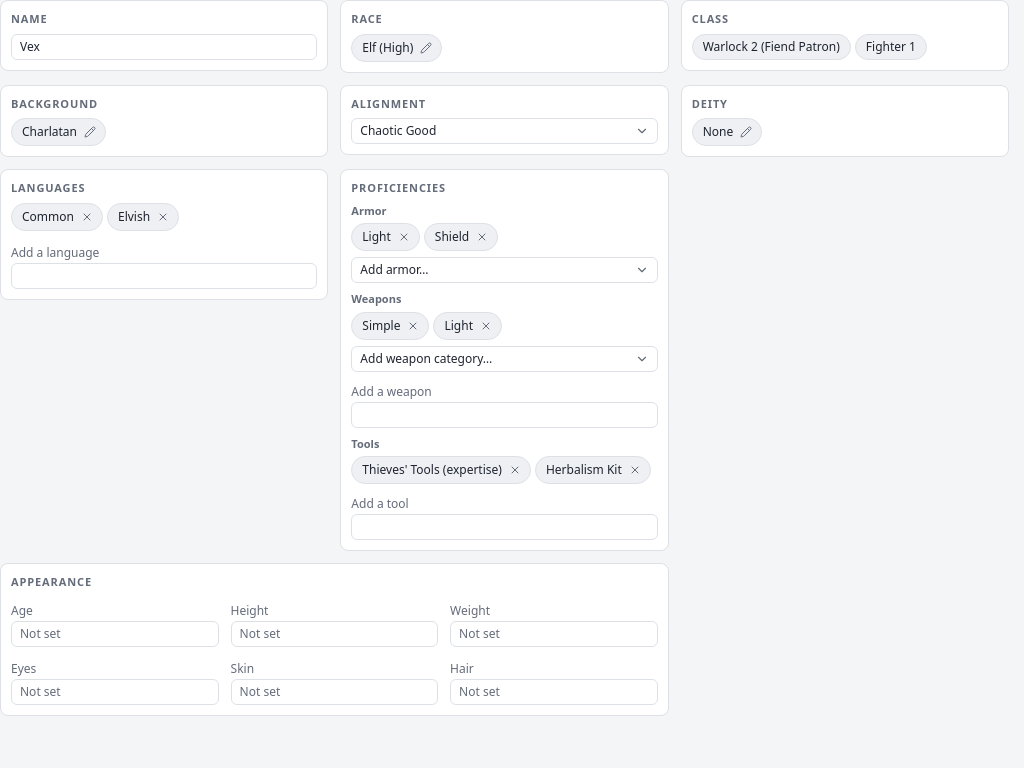
Test case: IdentitySection › refuses an empty name on the field and keeps it unsaved
This screenshot has width=1024, height=768.
Clear the field named "Name" at x=164, y=46, box [11, 34, 317, 60]
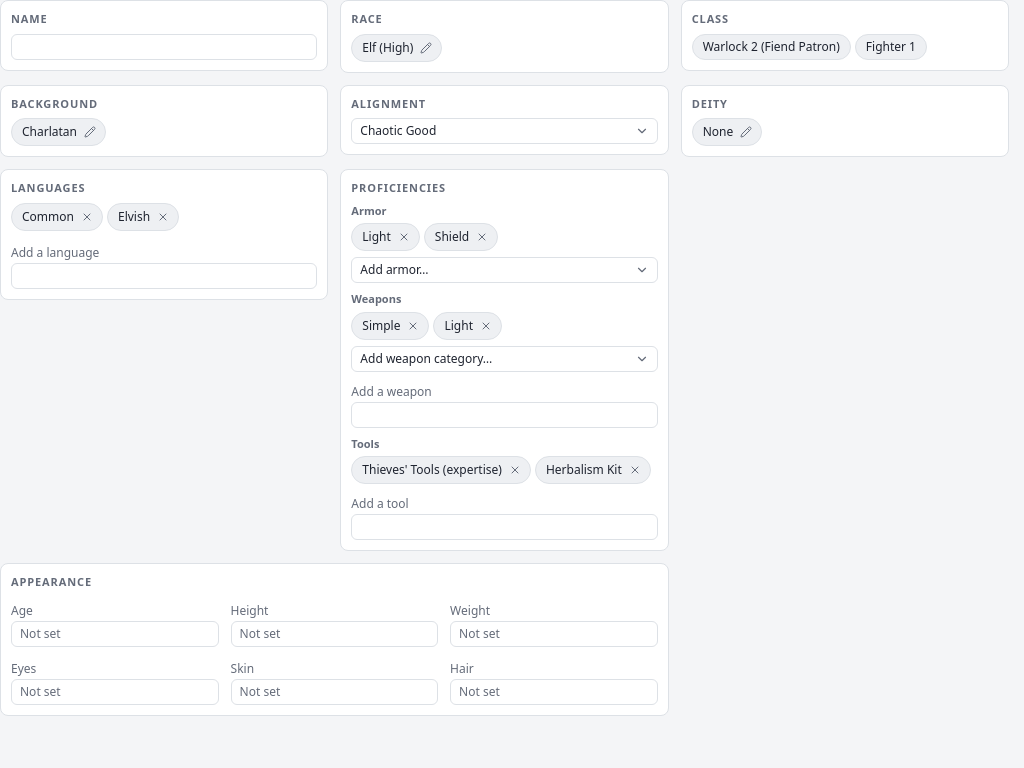
Leave the field named "Name", box [11, 34, 317, 60]
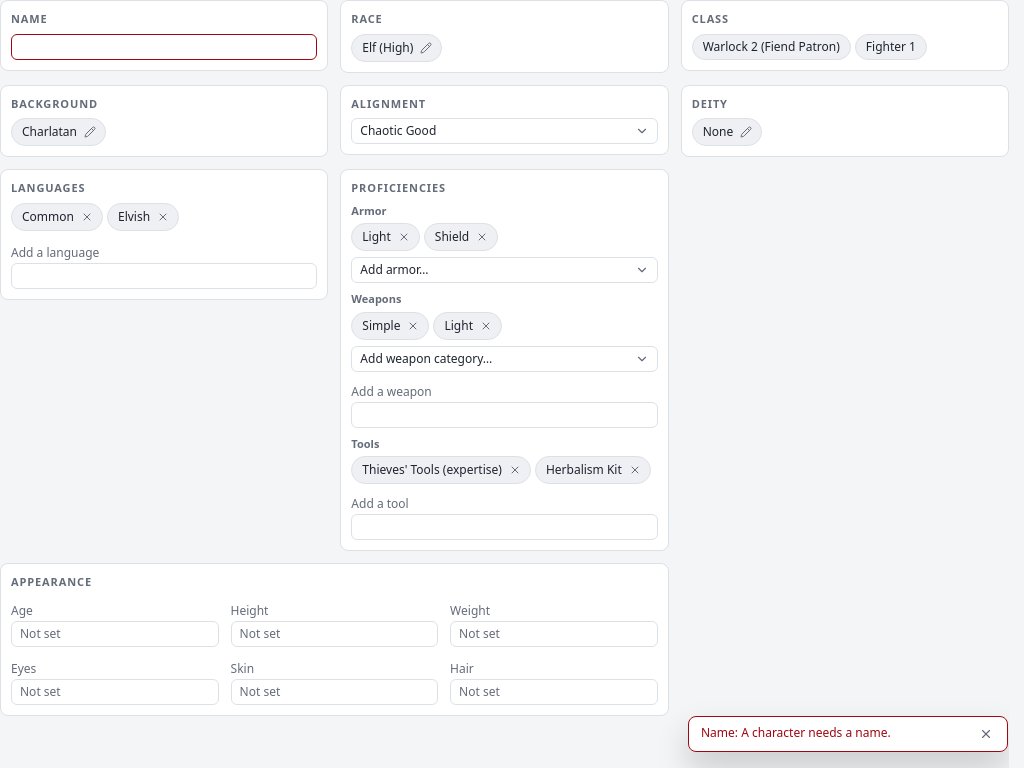
Check: the text "Name: A character needs a name." is shown, box [701, 724, 891, 741]
